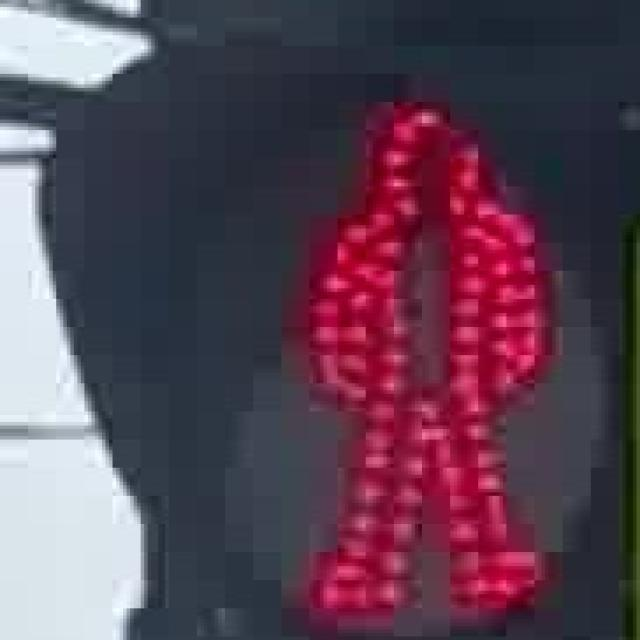red-crossing: (270, 63, 562, 630)
